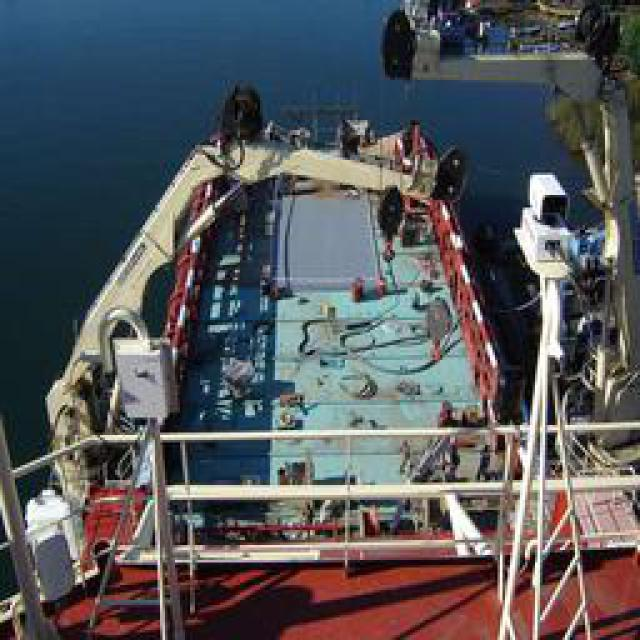Ship: (21, 101, 554, 599)
